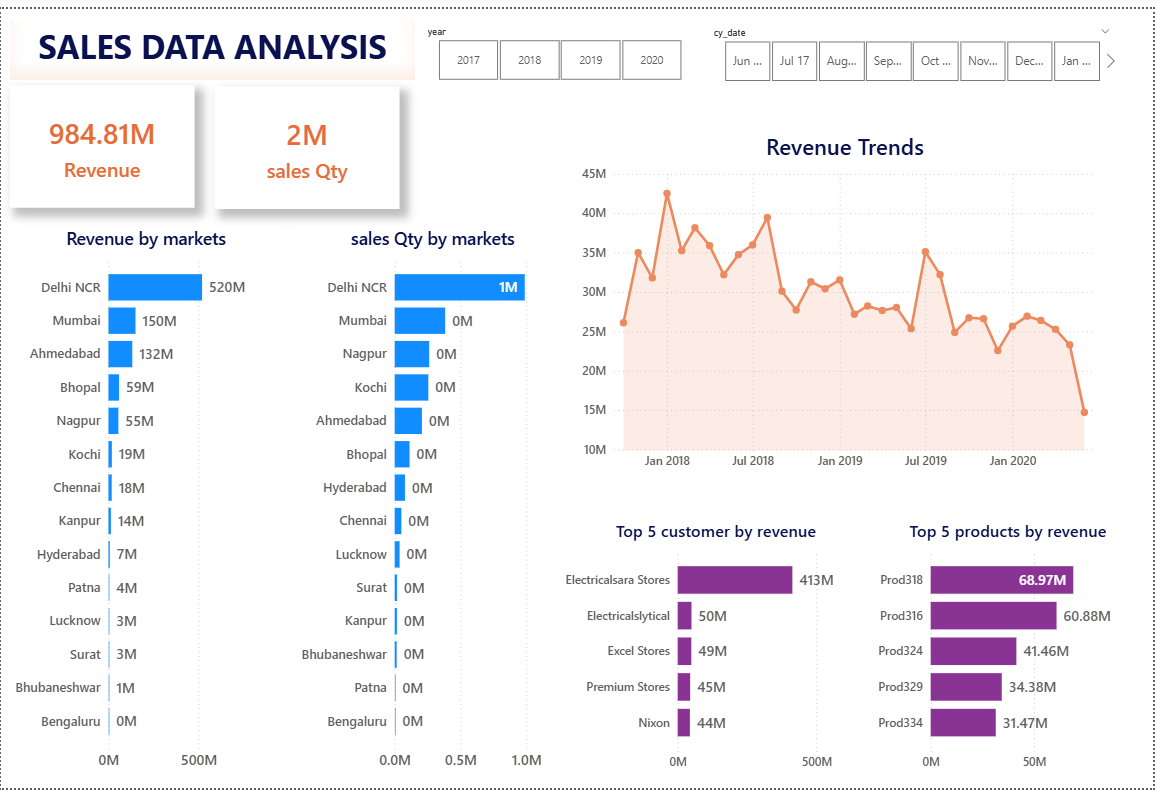

Layout of this report page (visuals, bound fields, positions):
{"tool":"powerbi","page":{"name":"Sales Data","canvas":[1317,891],"ordinal":0},"visuals":[{"type":"card","fields":{"Values":["sales transactions.Revenue"]},"box":[10,87.1,211.4,140],"z":0},{"type":"card","fields":{"Values":["sales transactions.sales Qty"]},"box":[244.3,88.6,211.4,140],"z":1000},{"type":"barChart","title":"Revenue by markets","fields":{"Y":["sales transactions.Revenue"],"Category":["sales markets.markets_name"]},"box":[10,248.6,311.4,631.4],"z":2000},{"type":"barChart","title":"sales Qty by markets","fields":{"Y":["sales transactions.sales Qty"],"Category":["sales markets.markets_name"]},"box":[337.1,248.6,312.9,631.4],"z":3000},{"type":"slicer","fields":{"Values":["sales date.year"]},"box":[474,13.8,327.5,73.2],"z":4000},{"type":"slicer","fields":{"Values":["sales date.cy_date"]},"box":[801.5,15.2,478.1,73.2],"z":5000},{"type":"barChart","title":"Top 5 customer by revenue","fields":{"Y":["sales transactions.Revenue"],"Category":["sales customers.custmer_name"]},"box":[638.2,582.4,357.4,297.1],"z":6000},{"type":"barChart","title":"Top 5 products by revenue","fields":{"Y":["sales transactions.Revenue"],"Category":["sales transactions.product_code"]},"box":[995.6,582.4,310.3,297.1],"z":7000},{"type":"lineChart","title":"Revenue Trends","fields":{"Y":["sales transactions.Revenue"],"Category":["sales date.cy_date.Variation.Date Hierarchy.Year","sales date.cy_date.Variation.Date Hierarchy.Quarter","sales date.cy_date.Variation.Date Hierarchy.Month","sales date.cy_date.Variation.Date Hierarchy.Day"]},"box":[658.8,139.7,611.8,395.6],"z":8000},{"type":"textbox","box":[10.3,13.2,463.2,69.1],"z":9000}]}

Visuals, with their boxes in screenshot pixels (x1, y1, x2, y2), scaled from the page's 1317x891 canvas onto the 1160x791 screenshot:
card - sales transactions.Revenue: <bbox>9, 77, 195, 202</bbox>
card - sales transactions.sales Qty: <bbox>215, 79, 401, 203</bbox>
"Revenue by markets" barChart: <bbox>9, 221, 283, 781</bbox>
"sales Qty by markets" barChart: <bbox>297, 221, 573, 781</bbox>
slicer - sales date.year: <bbox>417, 12, 706, 77</bbox>
slicer - sales date.cy_date: <bbox>706, 13, 1127, 78</bbox>
"Top 5 customer by revenue" barChart: <bbox>562, 517, 877, 781</bbox>
"Top 5 products by revenue" barChart: <bbox>877, 517, 1150, 781</bbox>
"Revenue Trends" lineChart: <bbox>580, 124, 1119, 475</bbox>
textbox: <bbox>9, 12, 417, 73</bbox>
